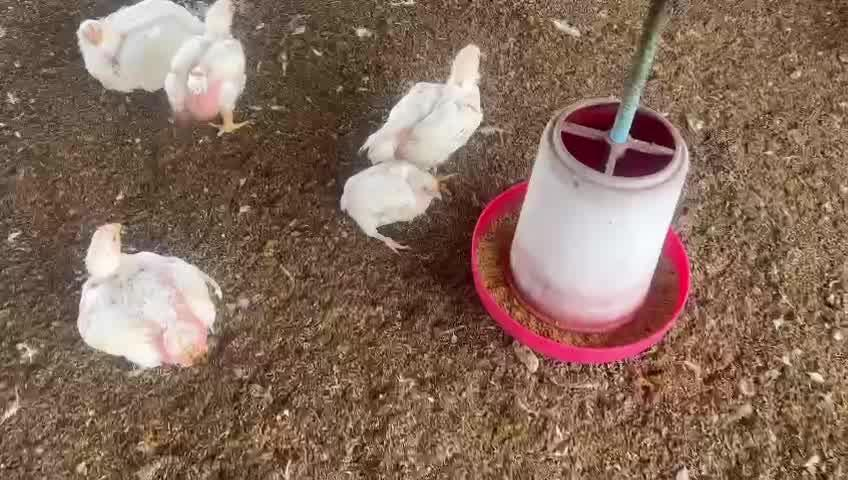AbNormal: (77, 225, 213, 368), (345, 159, 439, 250)
Normal: (370, 43, 487, 170), (168, 1, 254, 134), (74, 3, 193, 94)
